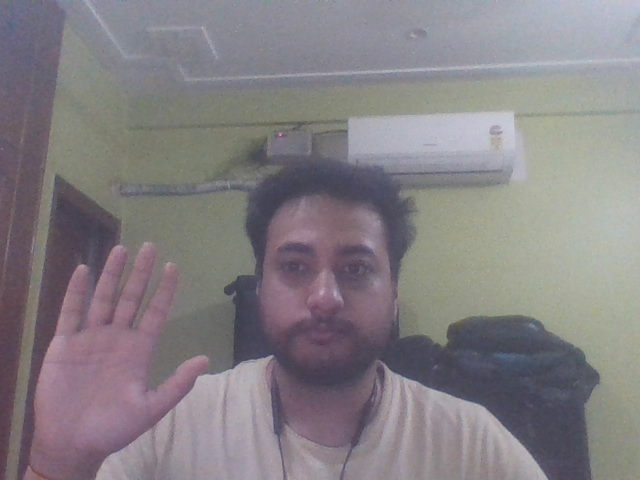Hello: (19, 232, 217, 480)
